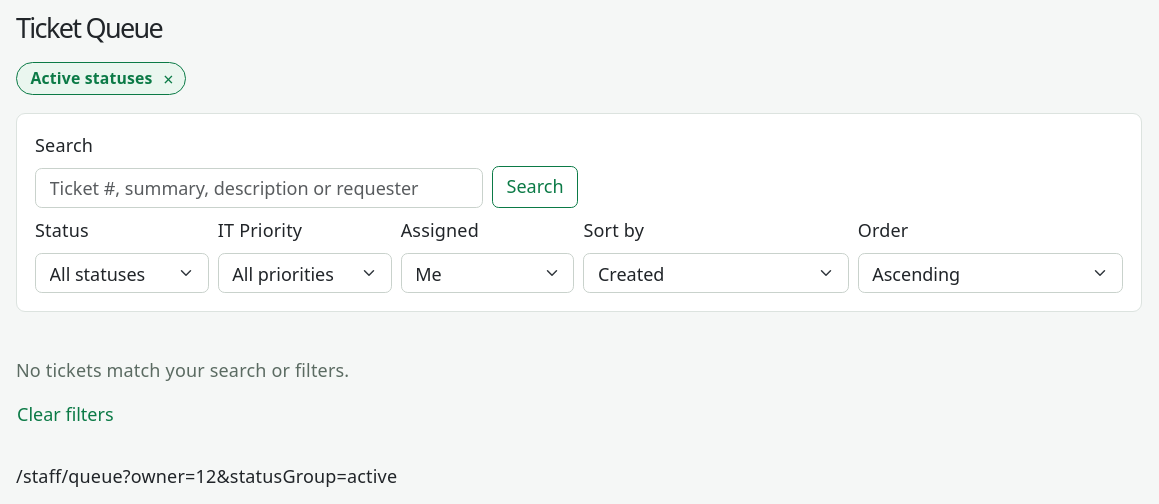
Test: Filters in the page address (UI-09) › opens the Ticket Queue with owner and statusGroup from the link, showing "Me" for the viewer's own id
Expected: the dropdown labelled "Assigned" shows "Me", left=401, top=253, right=574, bottom=293
Expected: the text "Active statuses" is shown, left=30, top=67, right=152, bottom=89
Step 1. Select "In Progress" in the dropdown labelled "Status" → (122, 273), box left=35, top=253, right=209, bottom=293
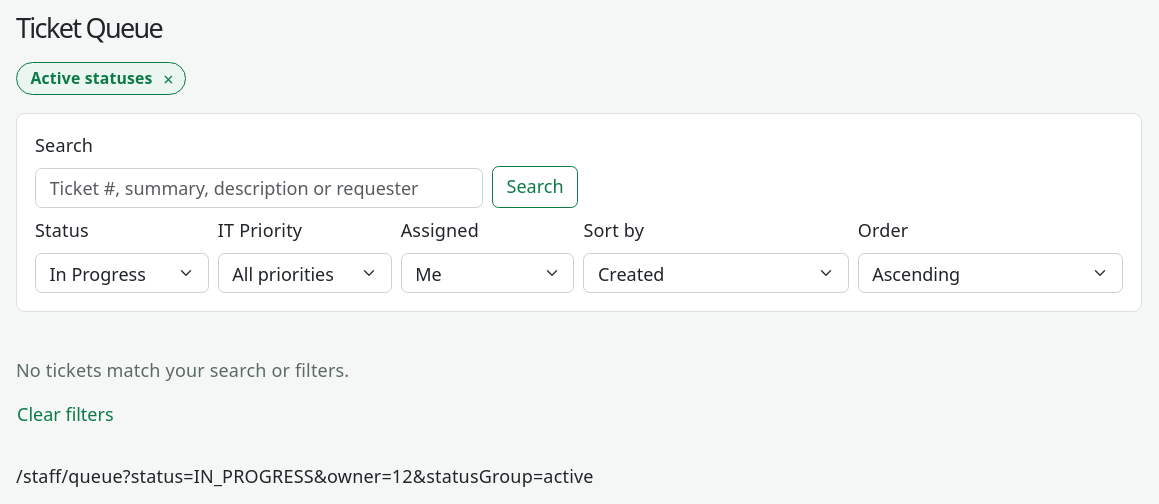
Expected: the text with test id "location" shows "owner=12", left=16, top=464, right=594, bottom=488
Now the text with test id "location" shows "status=IN_PROGRESS", box left=16, top=464, right=594, bottom=488
